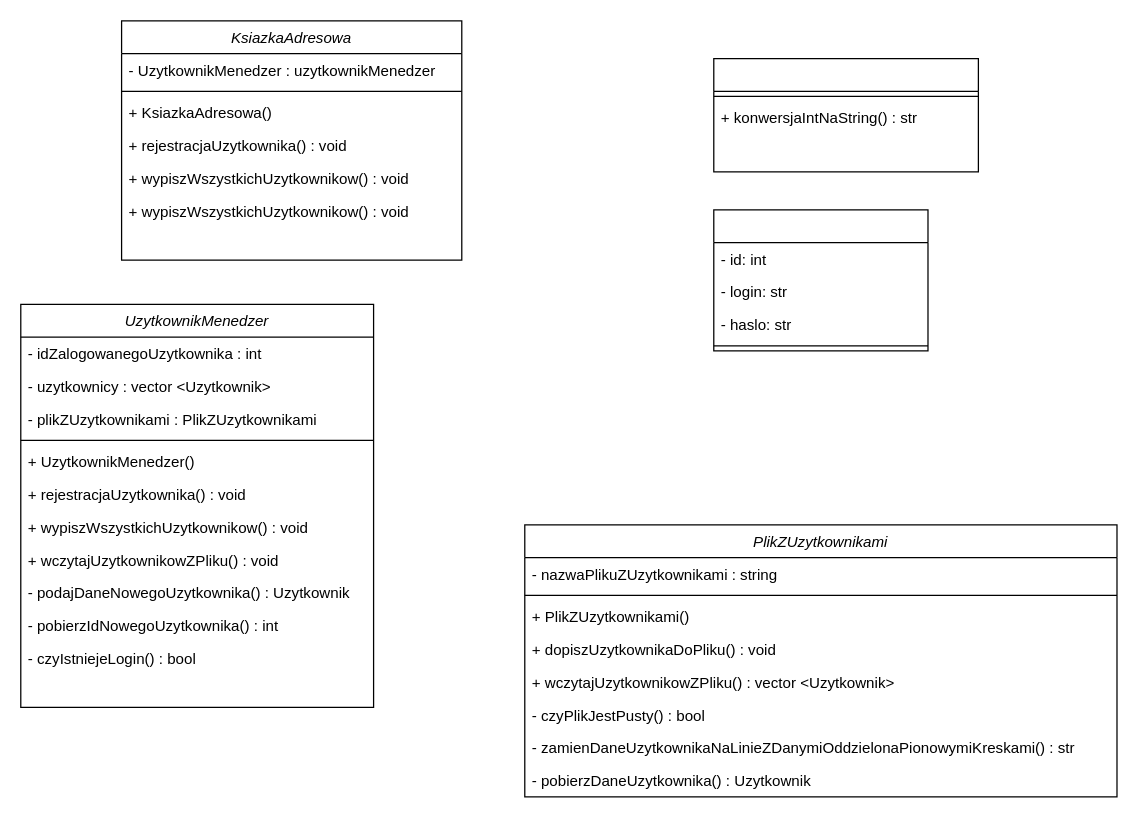
Some shapes in this 1138 by 818 pixel diagram are drawn without their labels. The shapes that lost their labels are listed below. From the top down, each one's box as (x1, y1, x2, y2) in pixels, then its label:
(713, 57, 978, 172): MetodyPomocnicze
(713, 209, 928, 351): Uzytkownik
